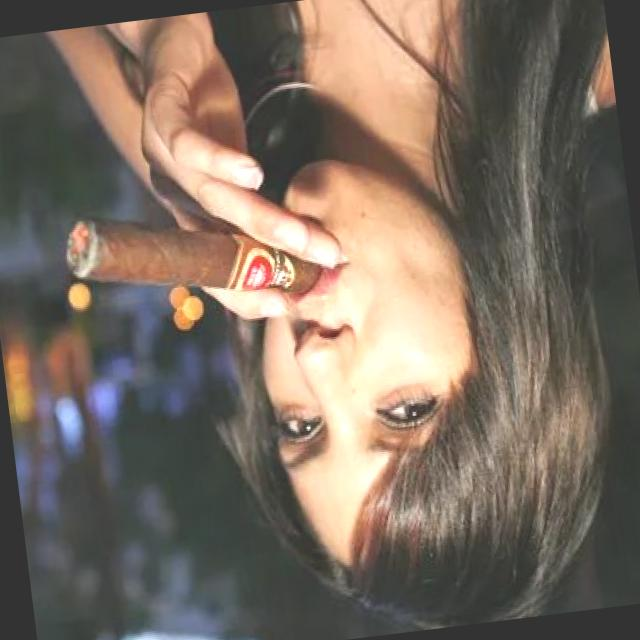smoke: (56, 180, 328, 326)
